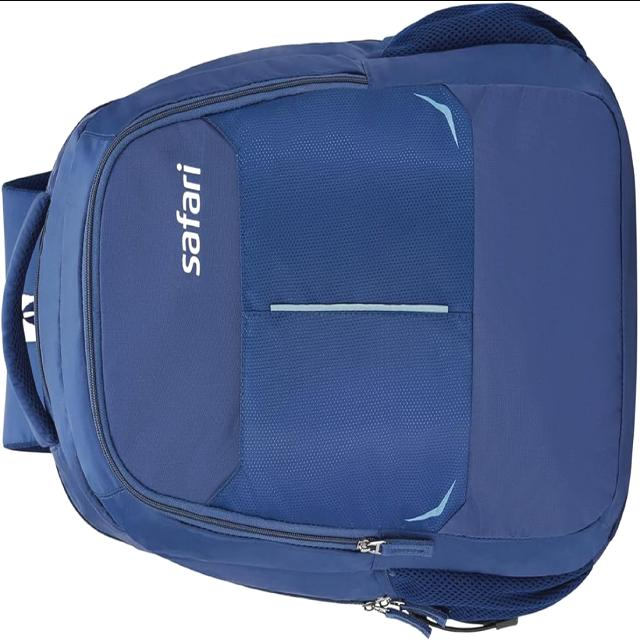backpack: (2, 4, 638, 638)
